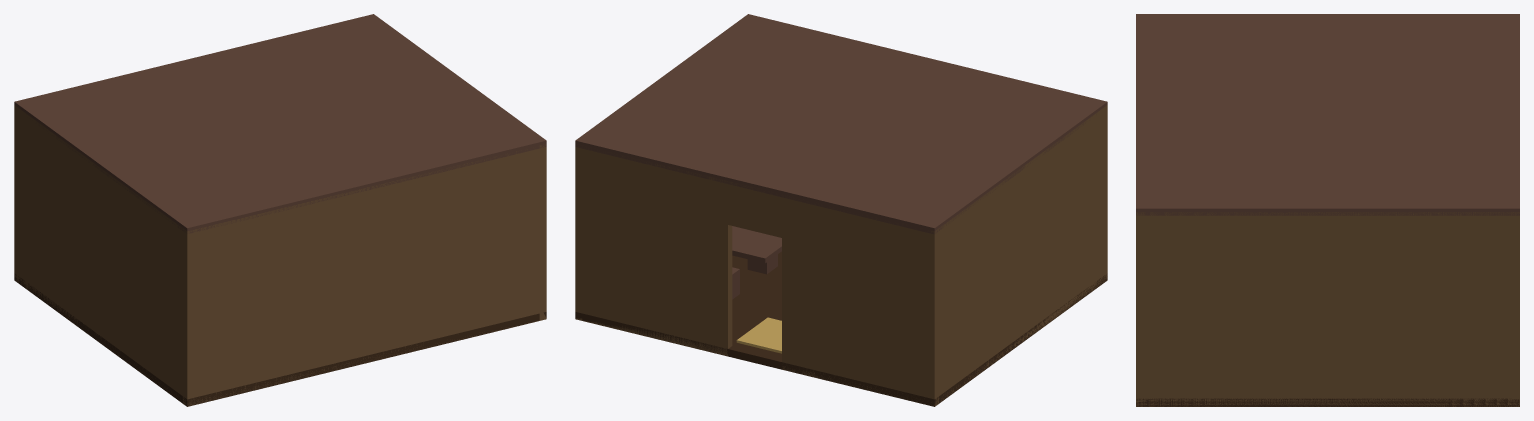
Rendered from tavern.glb.
The picture shows the model from 3 angles, left to right: view 1: azimuth 30°, elevation 25°; view 2: azimuth 150°, elevation 25°; view 3: azimuth 270°, elevation 25°; orthographic projection. The views are drawn at different scales.
Visible parts, largest first — view 1: ceiling, wall_north, wall_west, floor, wall_east; view 2: ceiling, wall_west, wall_south_r, wall_south_l, floor, wall_south_lintel, furniture_table_2, wall_east, interior_exit_pad; view 3: ceiling, wall_east, floor, wall_north, wall_south_r.
Part boxes in pixels (x1,y1,x2,y2): ceiling: (14,14,546,233); wall_north: (183,147,546,406); wall_west: (14,105,194,406); floor: (14,273,546,406); wall_east: (539,144,546,320); ceiling: (575,14,1107,233); wall_west: (927,105,1107,406); wall_south_r: (575,147,732,356); wall_south_l: (782,195,938,406); floor: (575,251,1107,406); wall_south_lintel: (728,181,781,237); furniture_table_2: (732,226,781,263); wall_east: (575,146,582,320); interior_exit_pad: (736,317,781,353); ceiling: (1136,14,1519,215); wall_east: (1136,212,1519,406); floor: (1136,398,1519,406); wall_north: (1136,212,1145,406); wall_south_r: (1510,212,1519,406).
Bounding box in the file's own units: 6 × 2.85 × 5.
